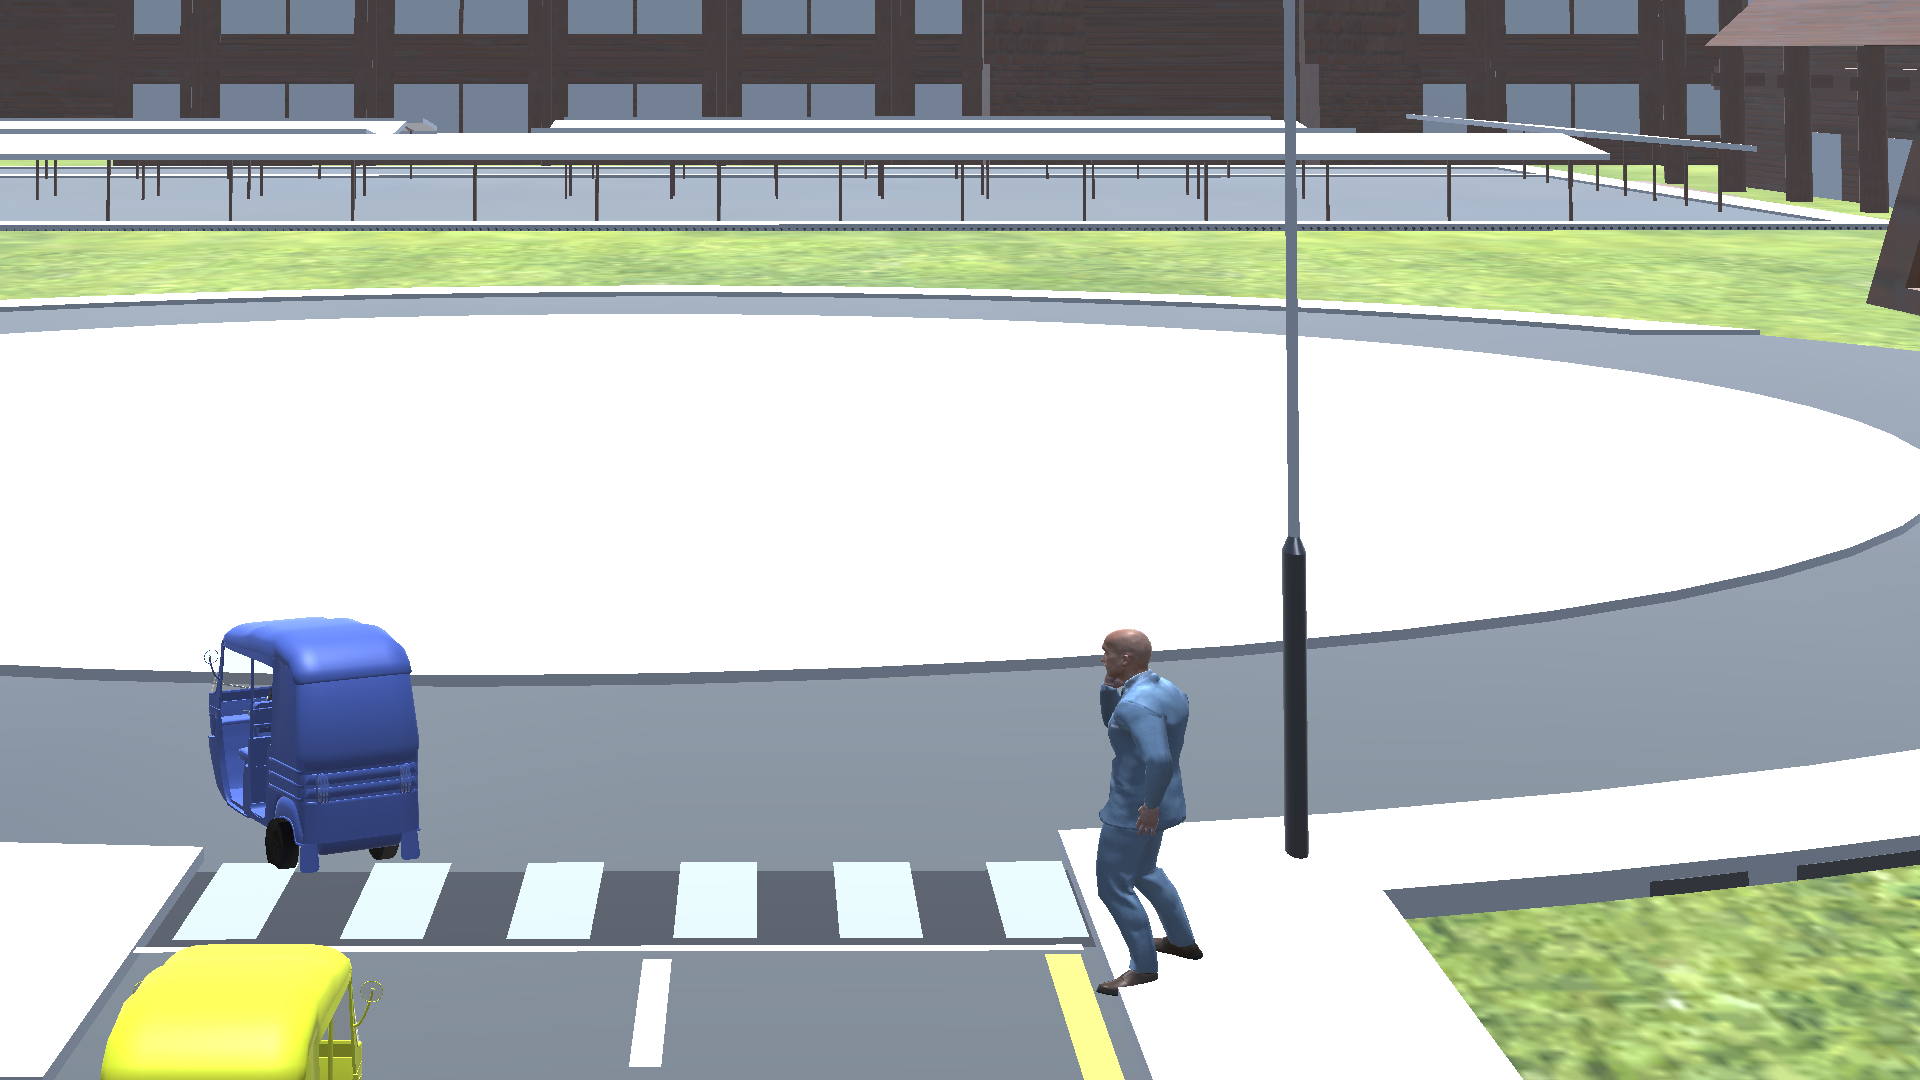pedestrian: (1073, 617, 1201, 993)
